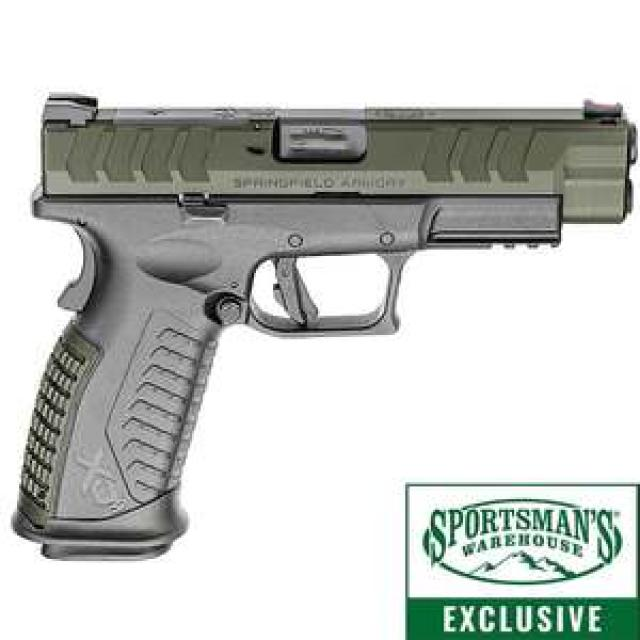HandGun: (9, 94, 640, 565)
